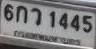letters: (16, 5, 28, 23), (31, 8, 42, 25), (3, 4, 13, 21), (83, 16, 93, 33), (59, 12, 68, 29), (71, 15, 80, 31), (49, 11, 56, 28)
province: (14, 30, 81, 46)
